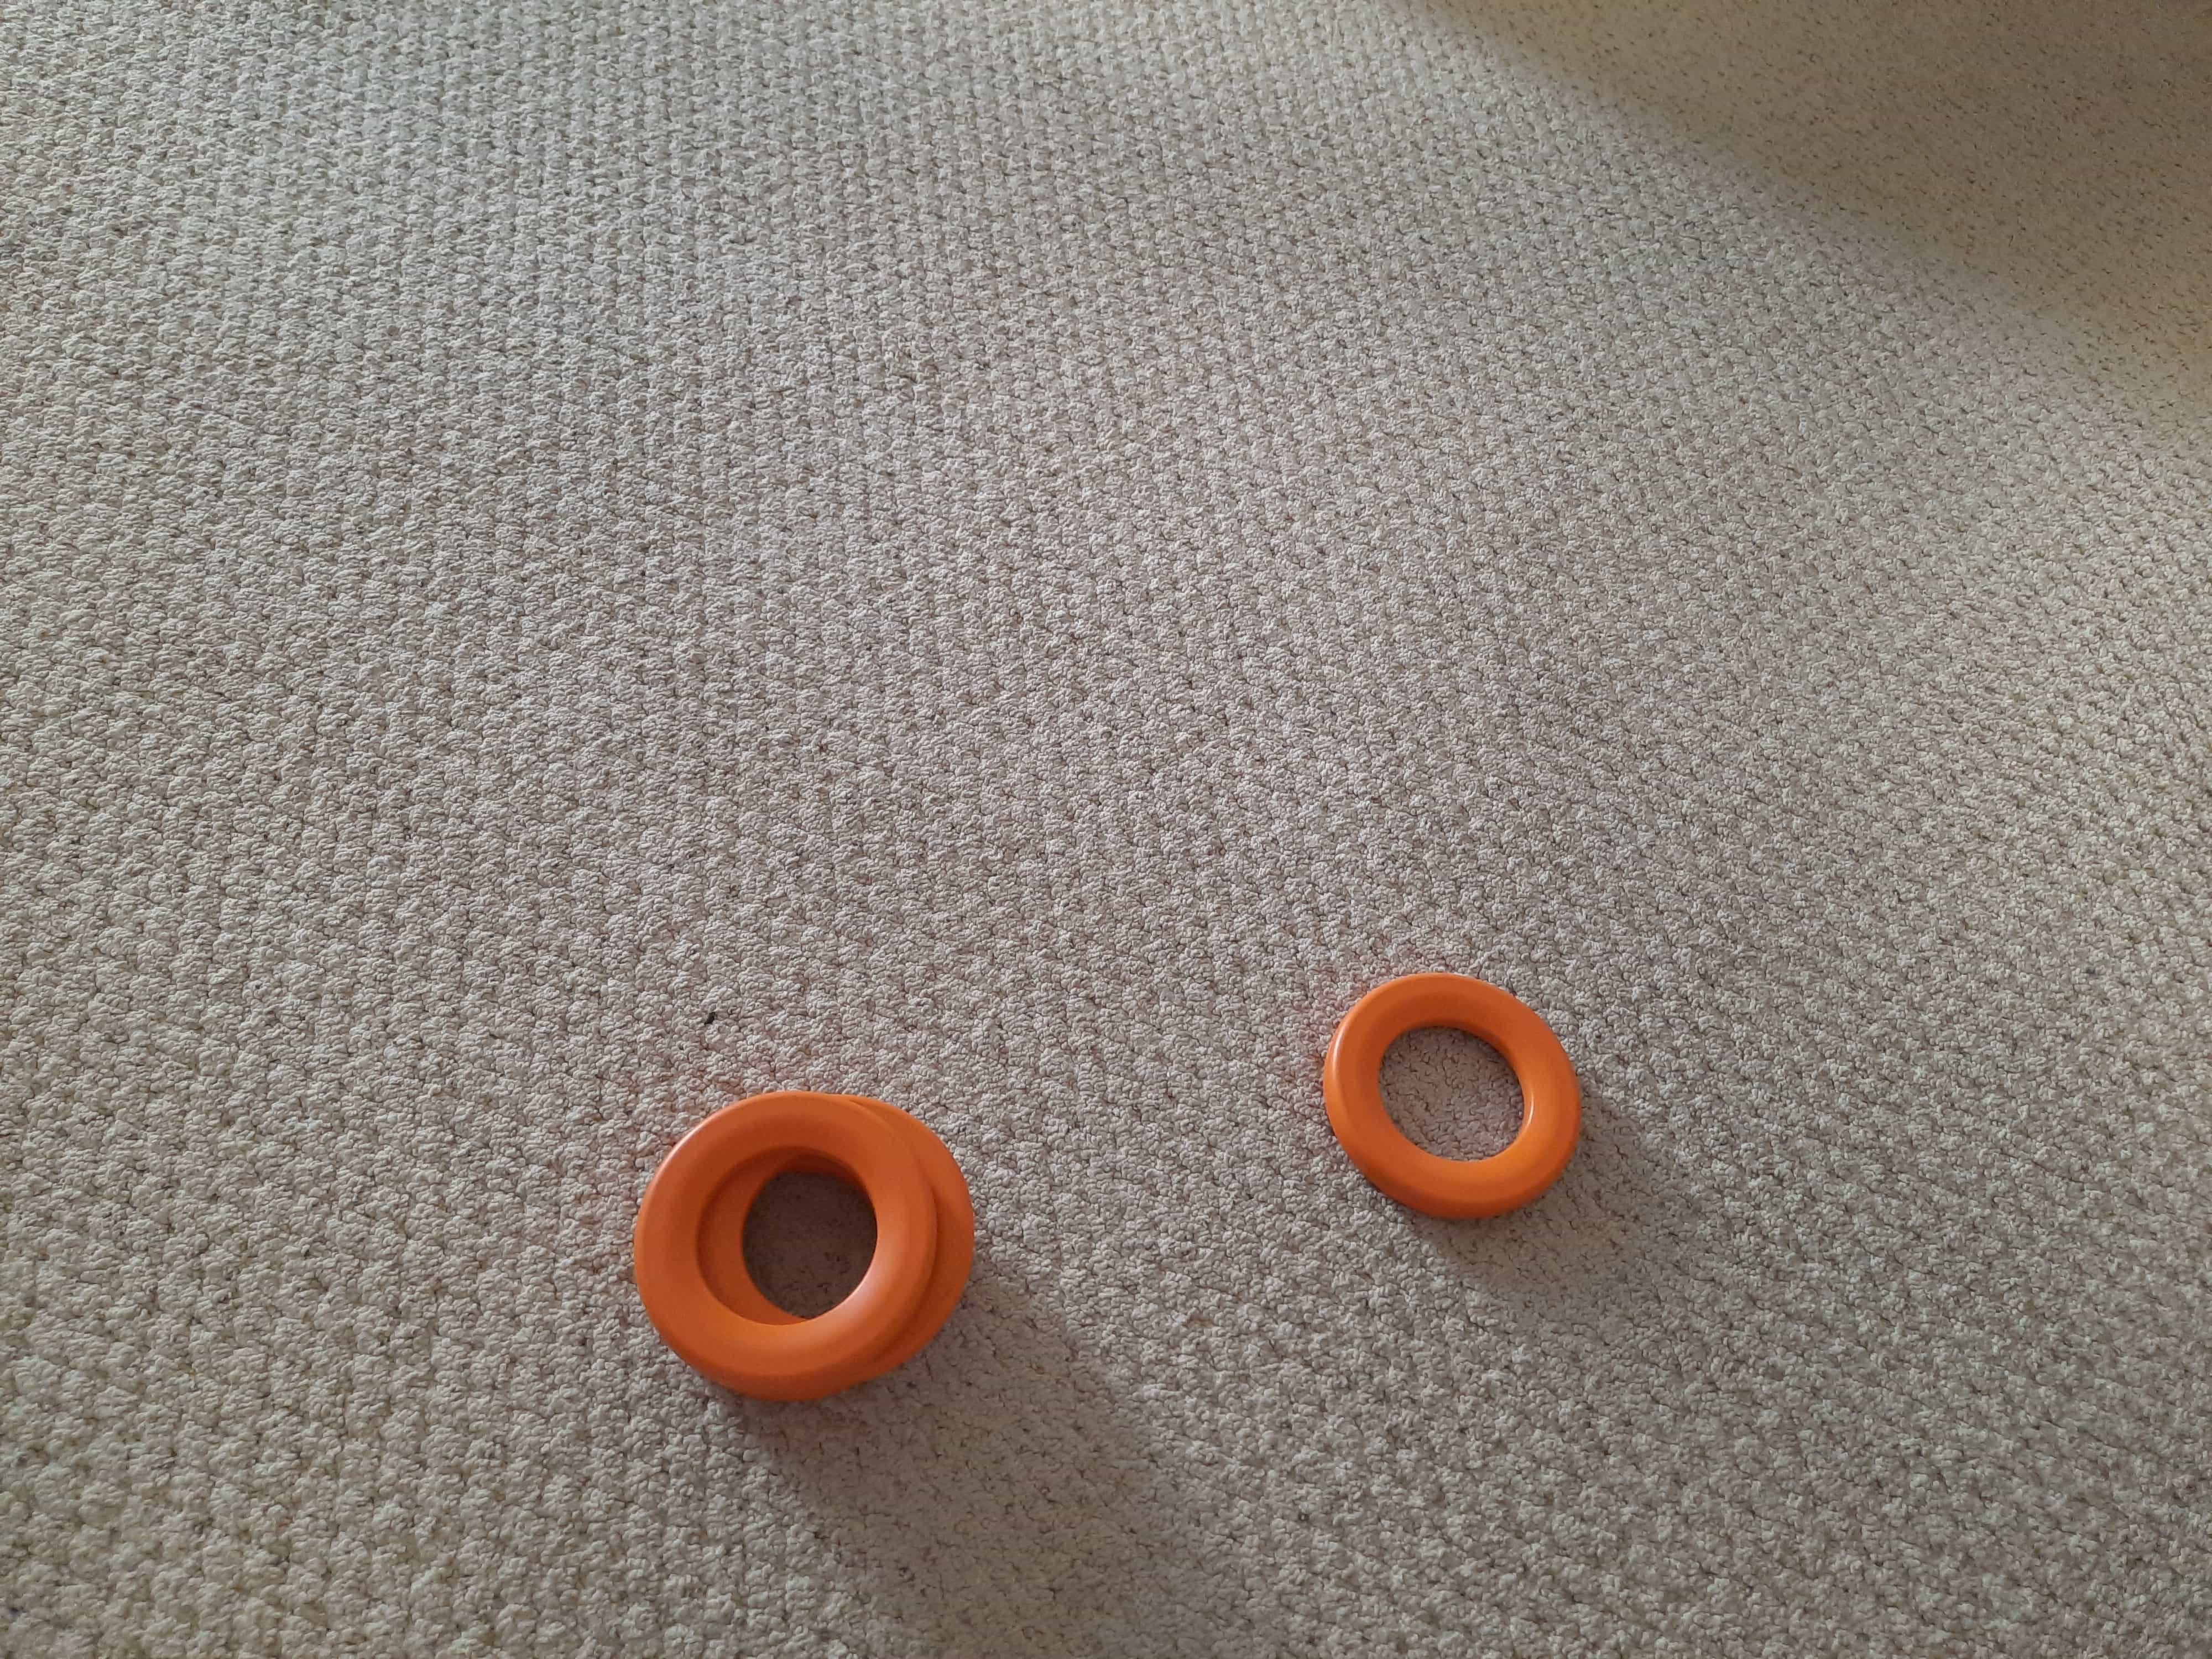FourStack: (636, 1094, 977, 1384)
OneStack: (1325, 971, 1581, 1206)
